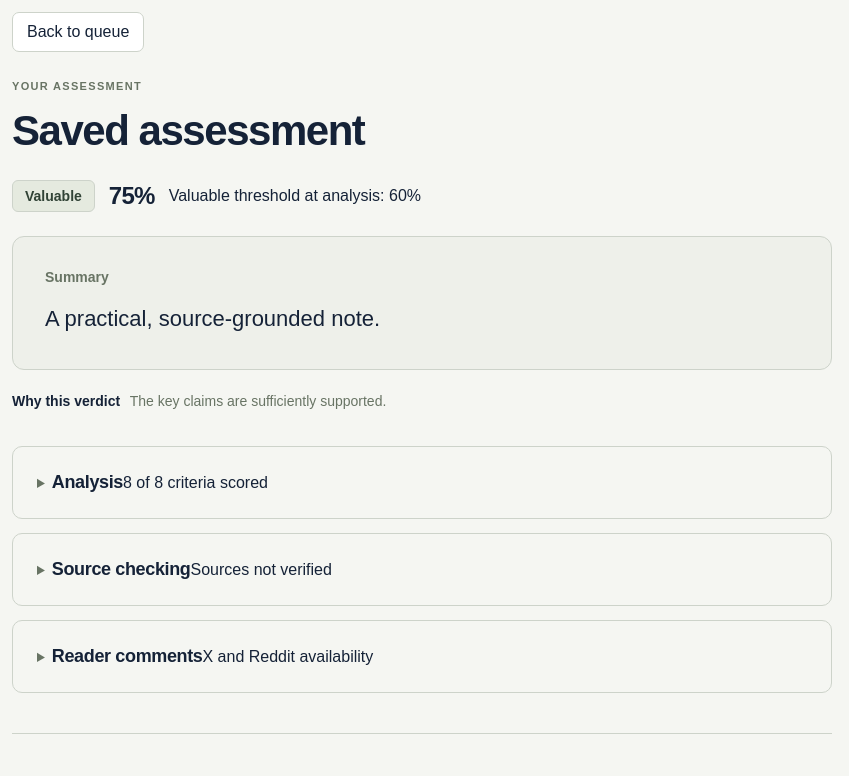
Test: keeps failed research status visible and explains its limitations when opened
Check: the text "A practical, source-grounded note." is shown, box [45, 306, 380, 330]
Check: the text "Sources not verified" is shown, box [190, 561, 332, 578]
Click the heading "Source checking": (121, 569) [52, 559, 190, 579]
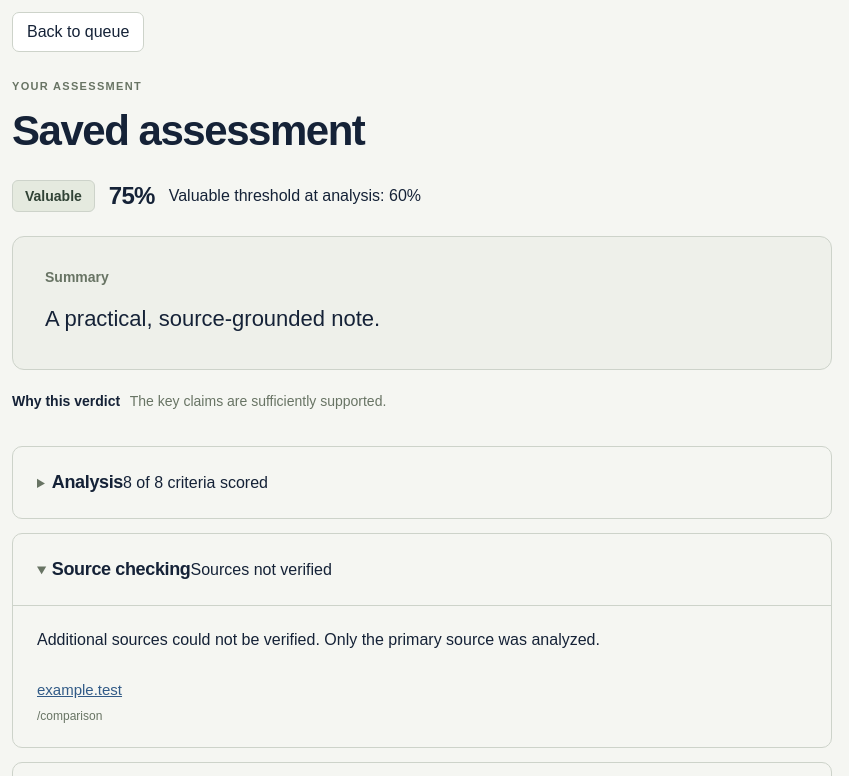
Check: the text "could not be verified" is shown, box [37, 631, 600, 648]
